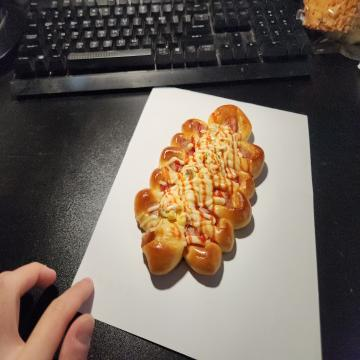pizza_bread: (137, 105, 265, 272)
